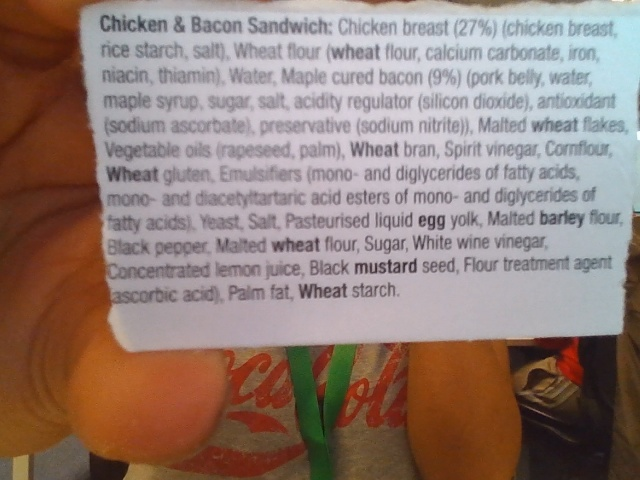chicken: (97, 13, 169, 33)
egg: (418, 210, 448, 233)
